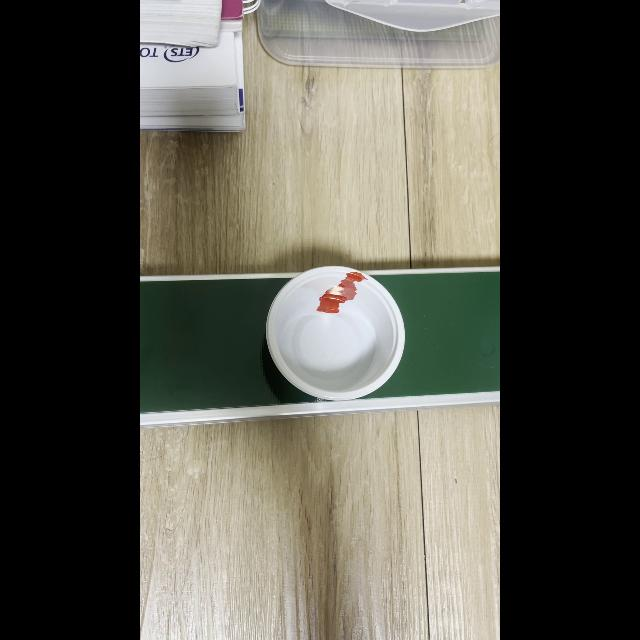dirty: (264, 267, 402, 399)
